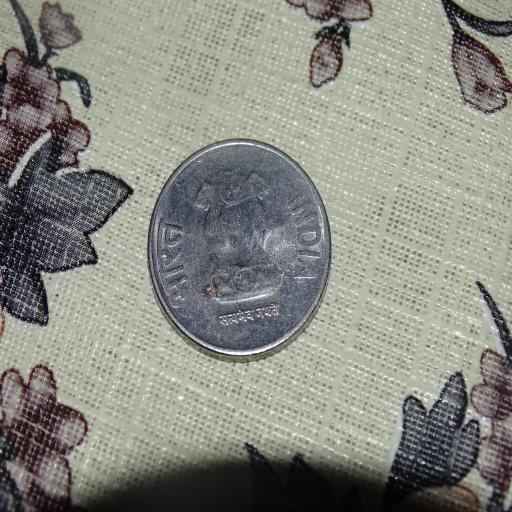rupee1: (148, 137, 326, 358)
